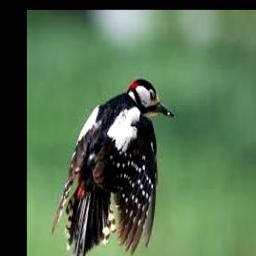Woodpecker: (53, 78, 175, 256)
